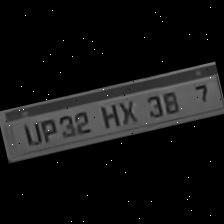2: (69, 104, 95, 136)
3: (138, 90, 165, 120), (56, 110, 78, 139)
7: (186, 77, 215, 108)
8: (156, 86, 183, 116)
H: (94, 98, 122, 130)
P: (34, 114, 58, 144)
U: (18, 118, 42, 146)
X: (113, 93, 141, 126)
